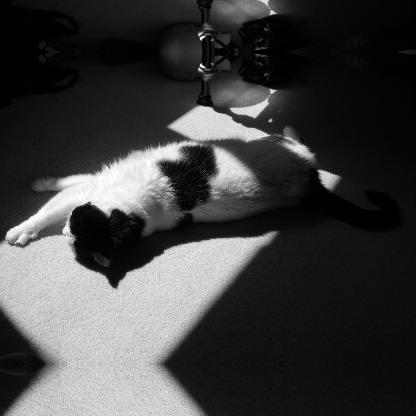Cat: (1, 112, 378, 284)
